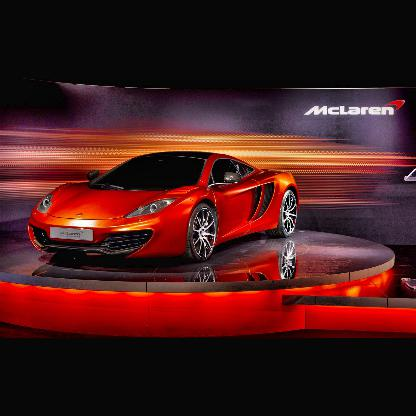McLaren MP4-12C Coupe 2012: (28, 152, 302, 265)
